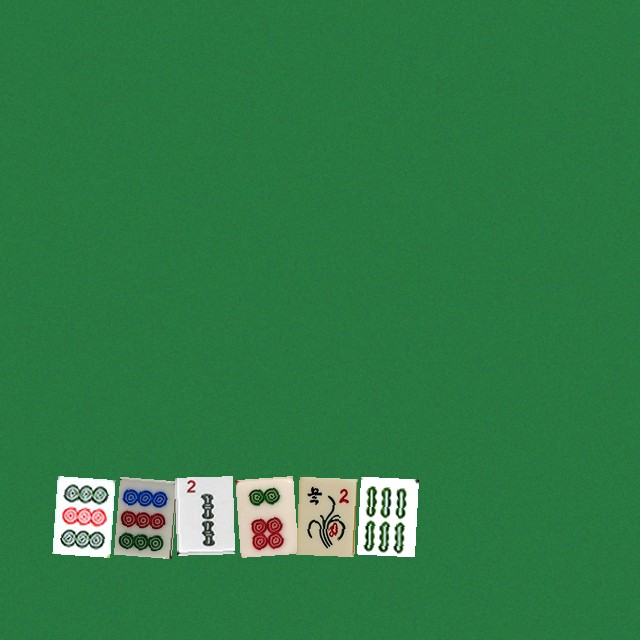tile: (52, 476, 110, 554), (113, 476, 171, 554), (174, 476, 232, 554), (235, 476, 293, 554), (296, 476, 354, 554), (357, 476, 415, 554)
